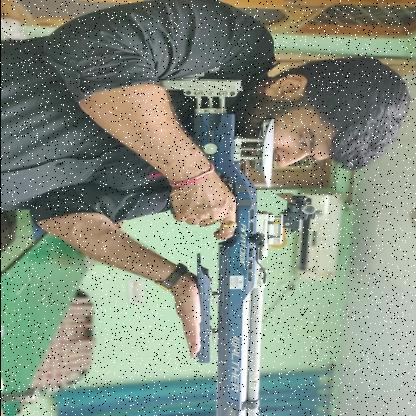rifle: (154, 66, 324, 416)
